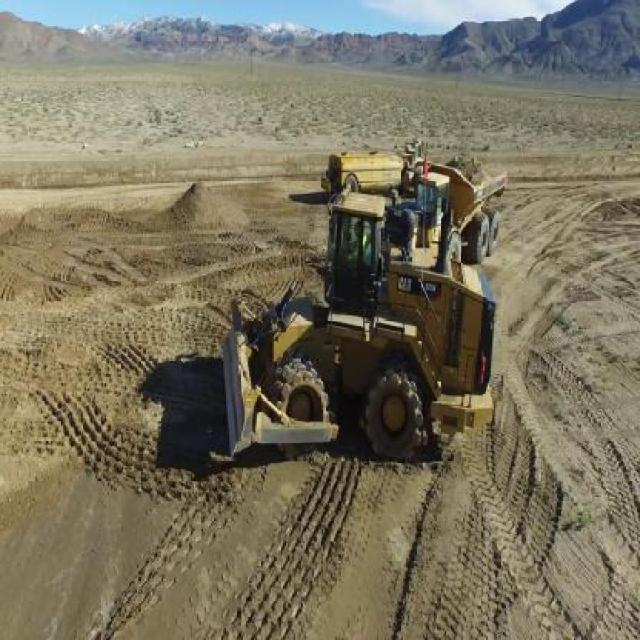dump_truck: (447, 160, 505, 255), (324, 146, 402, 189)
